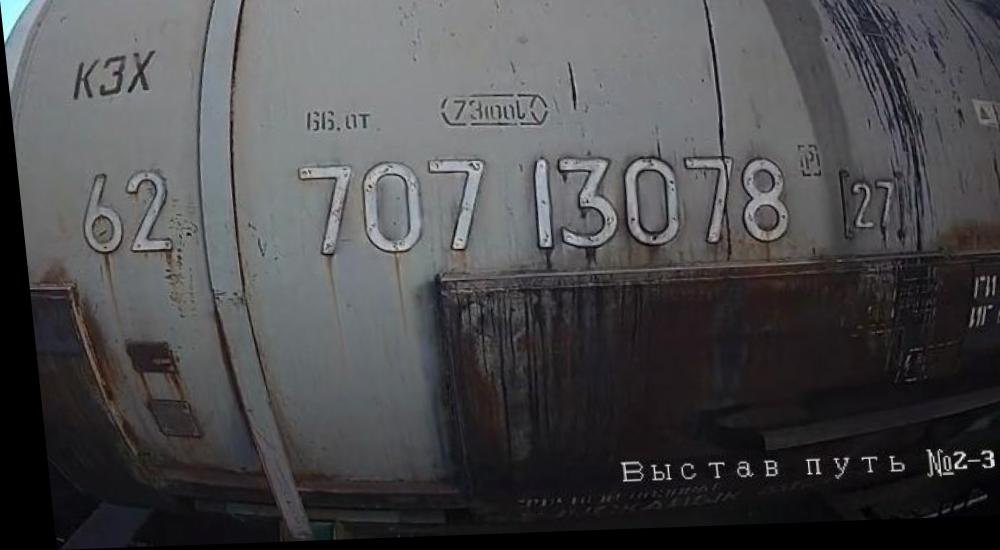Wagon-number: (285, 145, 793, 270)
